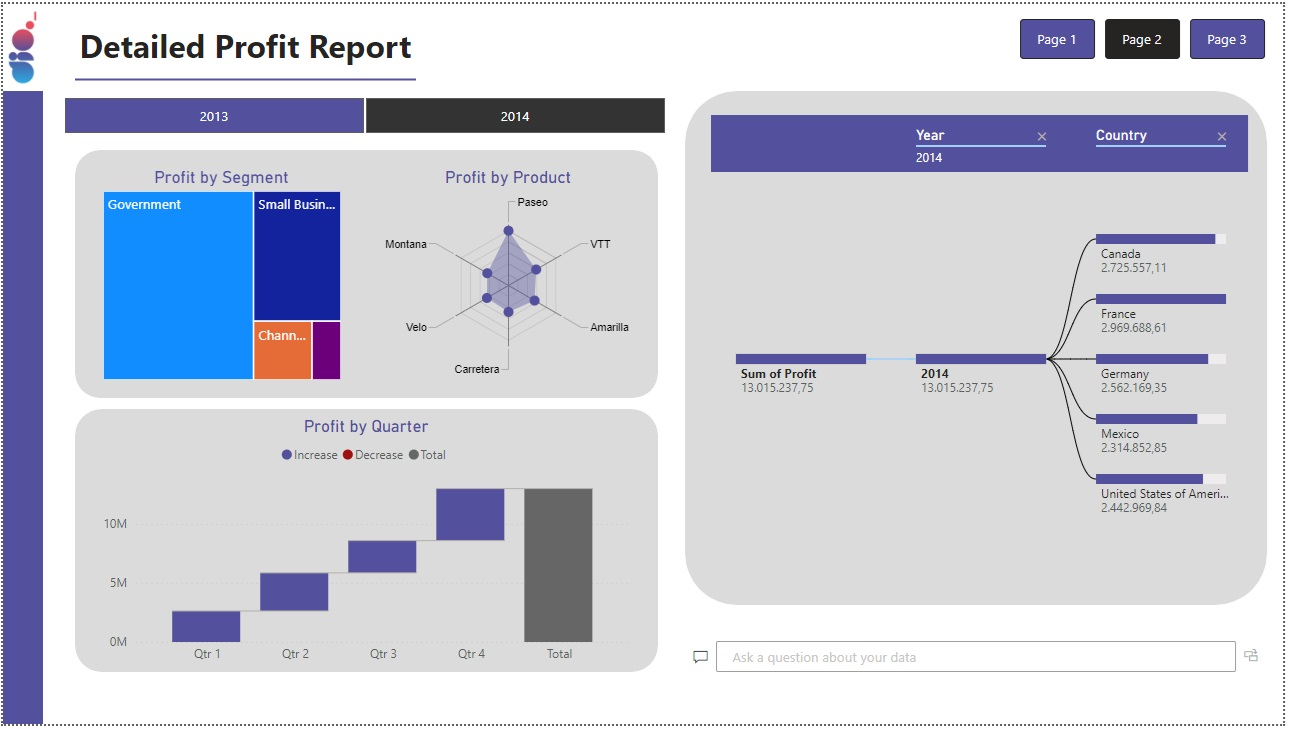

This screenshot's page, from the dashboard's own definition file:
{"tool":"powerbi","page":{"name":"Page 2","canvas":[1280,720],"ordinal":1},"visuals":[{"type":"shape","box":[682,86.9,582.1,514],"z":0,"group":"g1"},{"type":"shape","box":[71.8,405.5,582.7,262.7],"z":0},{"type":"group","id":"g1","title":"background","box":[0,0,1263.6,720],"z":1000},{"type":"shape","box":[0,0,40,720],"z":1000,"group":"g1"},{"type":"shape","box":[0,0,40,86.7],"z":2000,"group":"g1"},{"type":"shape","box":[71.8,146.4,582.7,247.3],"z":2000},{"type":"image","box":[0,0,40,86.7],"z":3000,"group":"g1"},{"type":"waterfallChart","title":"Profit by Quarter","fields":{"Y":["Sum(financials.Profit)"],"Category":["financials.Date.Variation.Date Hierarchy.Year","financials.Date.Variation.Date Hierarchy.Quarter","financials.Date.Variation.Date Hierarchy.Month"]},"box":[94.5,411.8,537.3,256.4],"z":3000},{"type":"RadarChart1446119667547","title":"Profit by Product","fields":{"Y":["Sum(financials.Profit)"],"Category":["financials.Product"]},"box":[342.7,162.7,325.5,218.2],"z":4000},{"type":"treemap","title":"Profit by Segment","fields":{"Group":["financials.Segment"],"Values":["Sum(financials.Profit)"]},"box":[94.5,162.7,248.2,218.2],"z":5000},{"type":"shape","box":[71.6,64.5,341.2,22.4],"z":6000},{"type":"textbox","box":[71.6,14.3,365.4,56.4],"z":7000},{"type":"slicer","fields":{"Values":["financials.Date.Variation.Date Hierarchy.Year"]},"box":[35.8,86.9,650.1,49.3],"z":8000},{"type":"decompositionTreeVisual","fields":{"Analyze":["Sum(financials.Profit)"],"ExplainBy":["financials.Date.Variation.Date Hierarchy.Year","financials.Country"]},"box":[703,105.7,547.2,476.4],"z":9000},{"type":"pageNavigator","box":[1017.3,14.5,246.4,40.9],"z":10000},{"type":"qnaVisual","box":[681.8,611.8,581.8,98.2],"z":11000}]}

Visuals, with their boxes on the page's 1280x720 design canvas (x1, y1, x2, y2). These are canvas units, not pixel positions in the 1289x729 screenshot, which may show the page scaled, cropped or inside an application window:
shape: {"x1": 682, "y1": 87, "x2": 1264, "y2": 601}
shape: {"x1": 72, "y1": 406, "x2": 654, "y2": 668}
"background" group: {"x1": 0, "y1": 0, "x2": 1264, "y2": 720}
shape: {"x1": 0, "y1": 0, "x2": 40, "y2": 720}
shape: {"x1": 0, "y1": 0, "x2": 40, "y2": 87}
shape: {"x1": 72, "y1": 146, "x2": 654, "y2": 394}
image: {"x1": 0, "y1": 0, "x2": 40, "y2": 87}
"Profit by Quarter" waterfallChart: {"x1": 94, "y1": 412, "x2": 632, "y2": 668}
"Profit by Product" RadarChart1446119667547: {"x1": 343, "y1": 163, "x2": 668, "y2": 381}
"Profit by Segment" treemap: {"x1": 94, "y1": 163, "x2": 343, "y2": 381}
shape: {"x1": 72, "y1": 64, "x2": 413, "y2": 87}
textbox: {"x1": 72, "y1": 14, "x2": 437, "y2": 71}
slicer - financials.Date.Variation.Date Hierarchy.Year: {"x1": 36, "y1": 87, "x2": 686, "y2": 136}
decompositionTreeVisual - Sum(financials.Profit) x financials.Date.Variation.Date Hierarchy.Year: {"x1": 703, "y1": 106, "x2": 1250, "y2": 582}
pageNavigator: {"x1": 1017, "y1": 14, "x2": 1264, "y2": 55}
qnaVisual: {"x1": 682, "y1": 612, "x2": 1264, "y2": 710}
